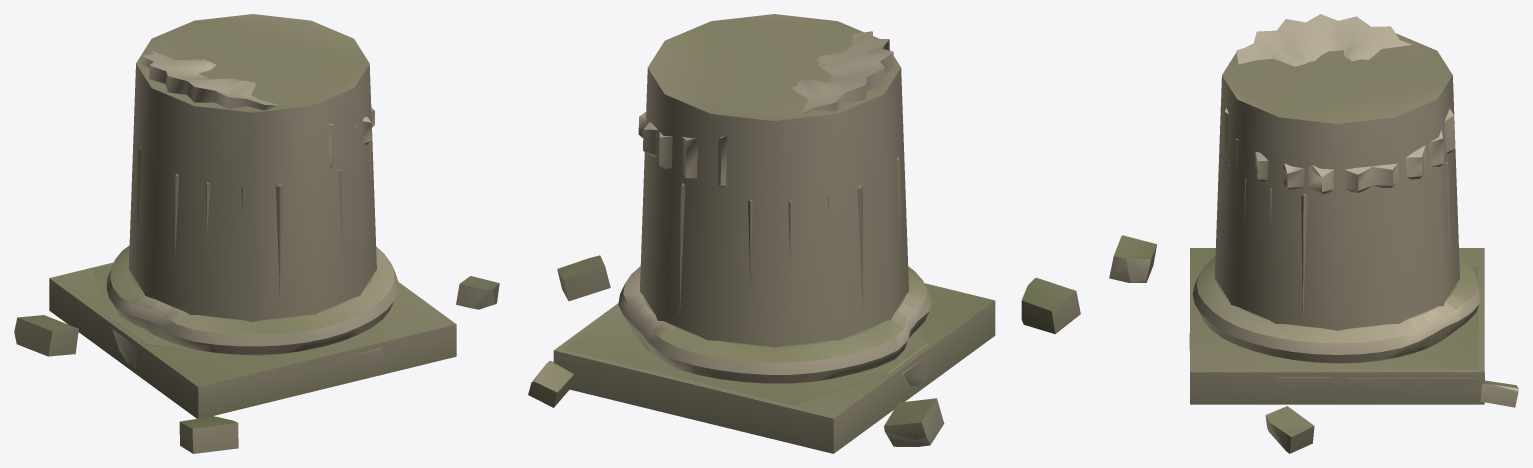
Rendered from street_stump.glb.
The picture shows the model from 3 angles, left to right: view 1: azimuth 30°, elevation 25°; view 2: azimuth 150°, elevation 25°; view 3: azimuth 270°, elevation 25°; orthographic projection. The views are drawn at different scales.
Visible parts, largest first — view 1: street_stump_far, street_stump; view 2: street_stump_far, street_stump; view 3: street_stump_far, street_stump.
Part boxes in pixels (x1,y1,x2,y2): street_stump_far: [49, 14, 456, 418]; street_stump: [14, 51, 499, 453]; street_stump_far: [553, 14, 995, 453]; street_stump: [528, 31, 1080, 446]; street_stump_far: [1190, 33, 1484, 404]; street_stump: [1109, 14, 1518, 453].
Bounding box in the file's own units: 8.01 × 5.42 × 6.95.
